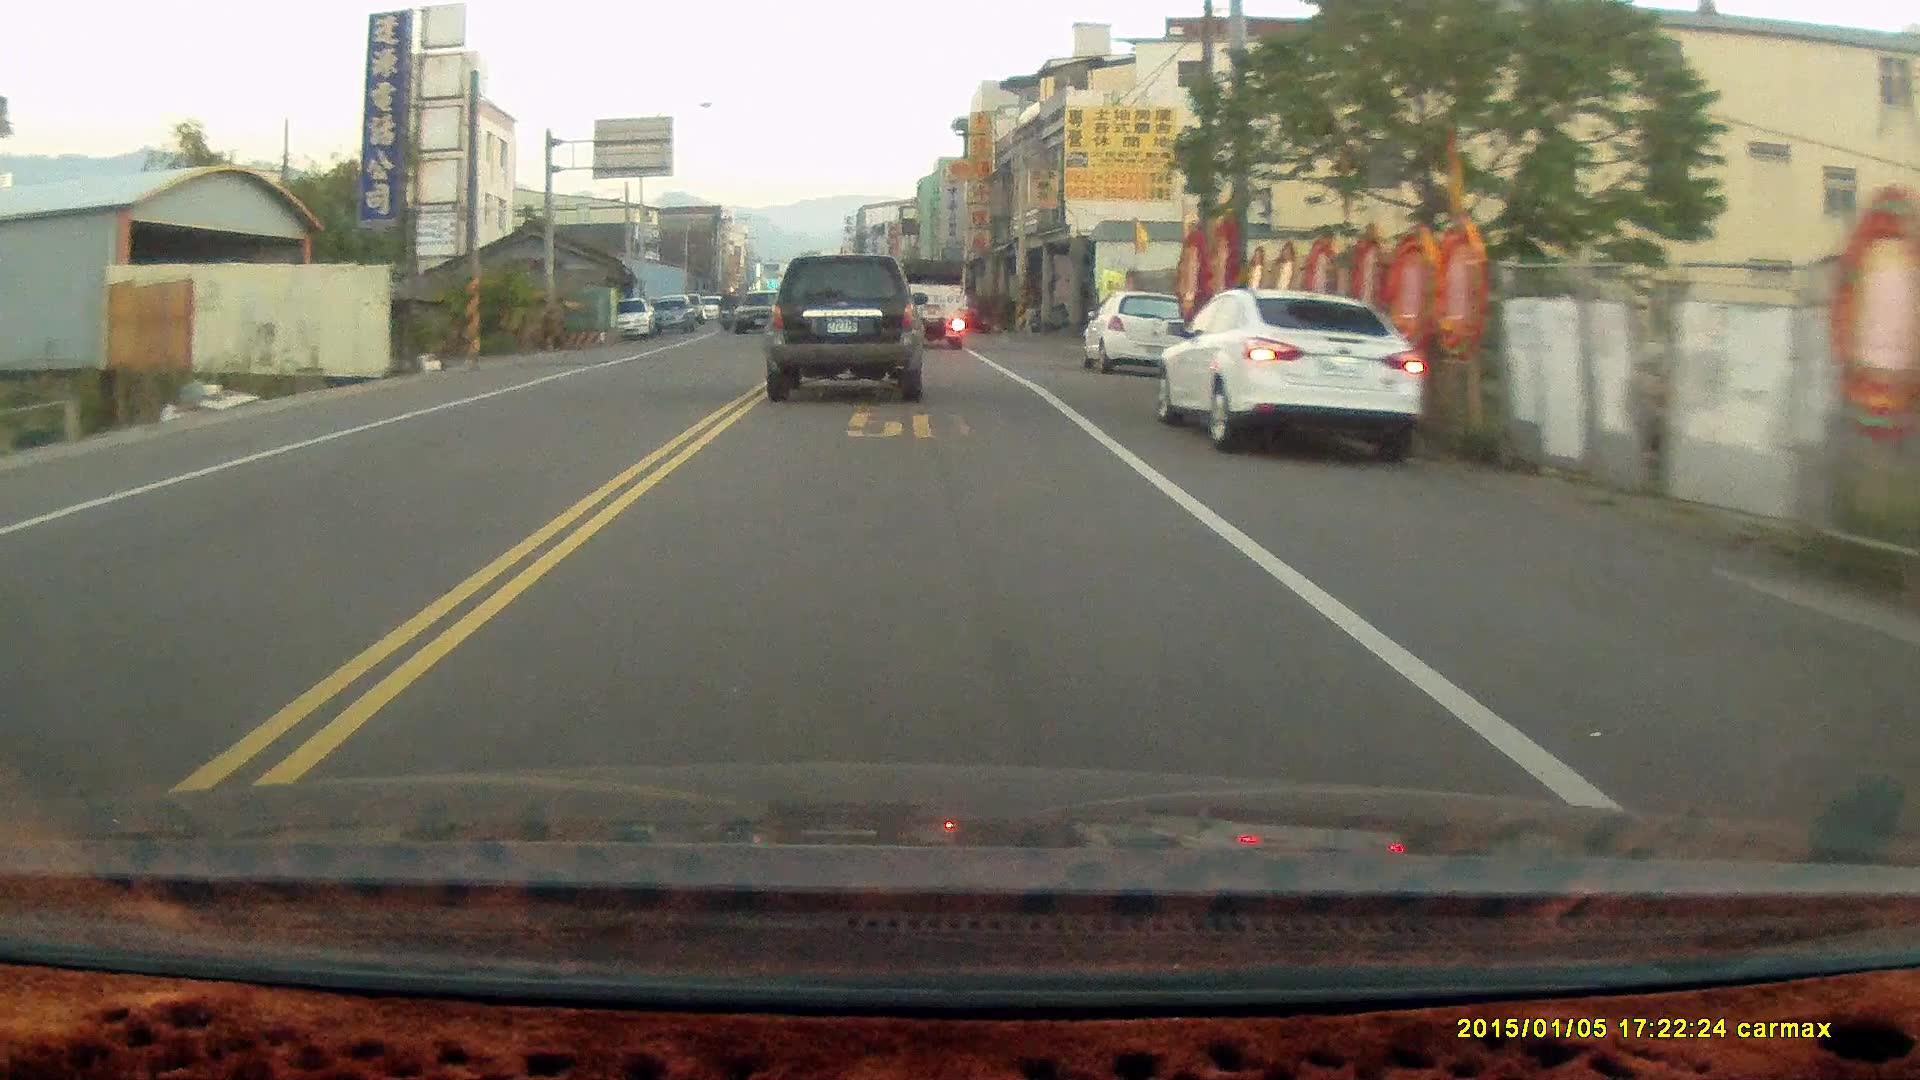vehicle: (1158, 289, 1425, 451), (767, 255, 928, 404), (1084, 290, 1188, 376), (893, 256, 971, 351)
